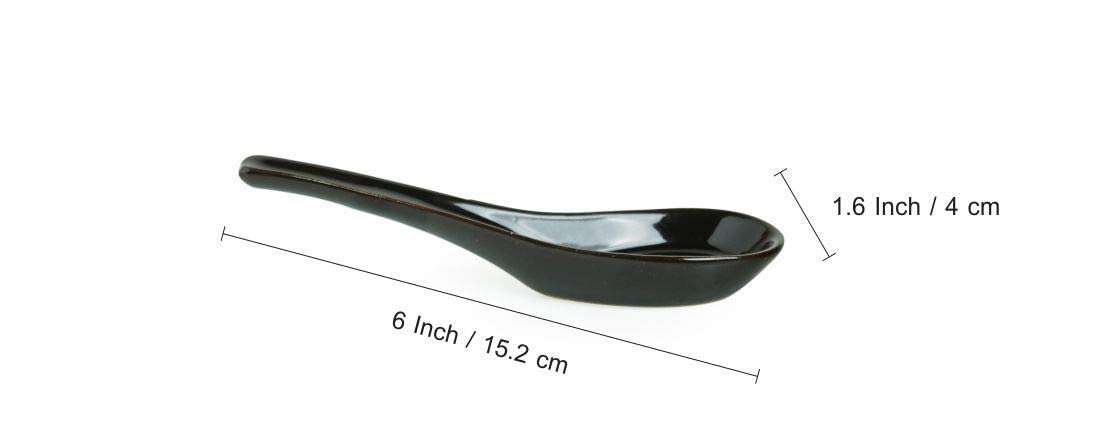15.2: (486, 336, 529, 363)
6: (393, 311, 406, 329)
7: (466, 331, 476, 348)
Gh: (537, 355, 567, 374)
m: (981, 202, 999, 215)
